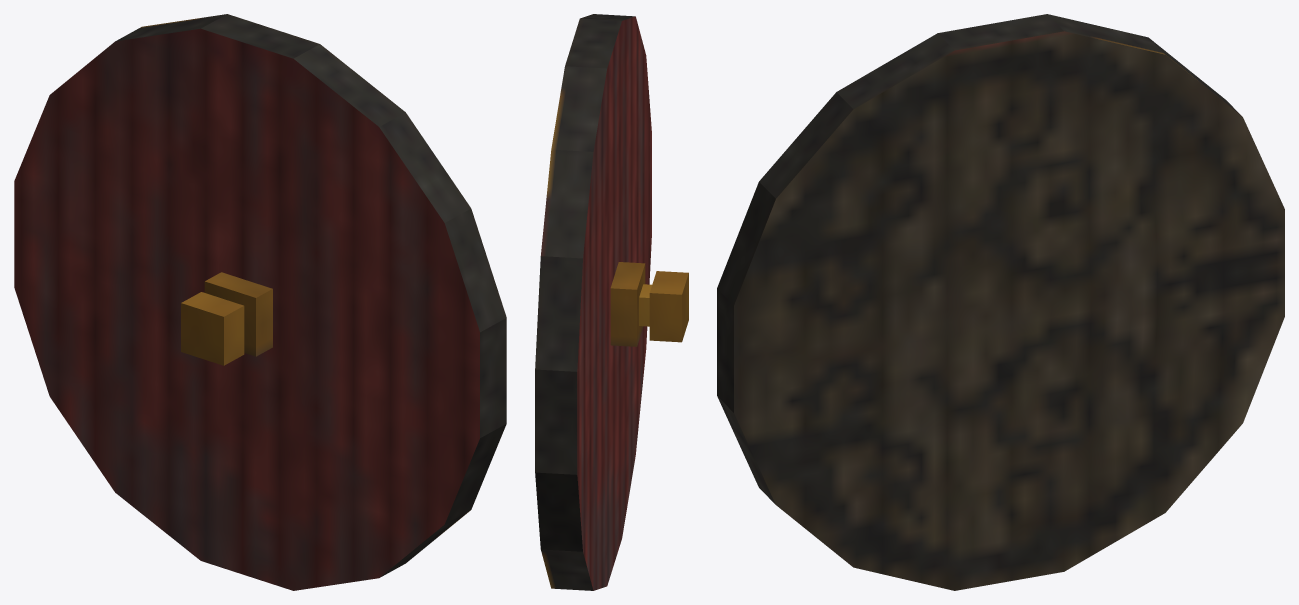
File: hobbit_door_3x3_red_open.obj
3 views of the same model, side by side, from view 1: azimuth 30°, elevation 25°; view 2: azimuth 150°, elevation 25°; view 3: azimuth 270°, elevation 25° (orthographic). The views are drawn at different scales.
Parts seen in each view (by area): view 1: cylinder, cube; view 2: cylinder, cube; view 3: cylinder.
Boxes of the visible parts, left/top/right/bottom form: cylinder: left=14, top=14, right=506, bottom=590; cube: left=181, top=272, right=272, bottom=365; cylinder: left=535, top=14, right=651, bottom=590; cube: left=610, top=262, right=688, bottom=346; cylinder: left=717, top=14, right=1284, bottom=590.
Bounding box in the file's own units: 1.16 × 2.57 × 2.44.
